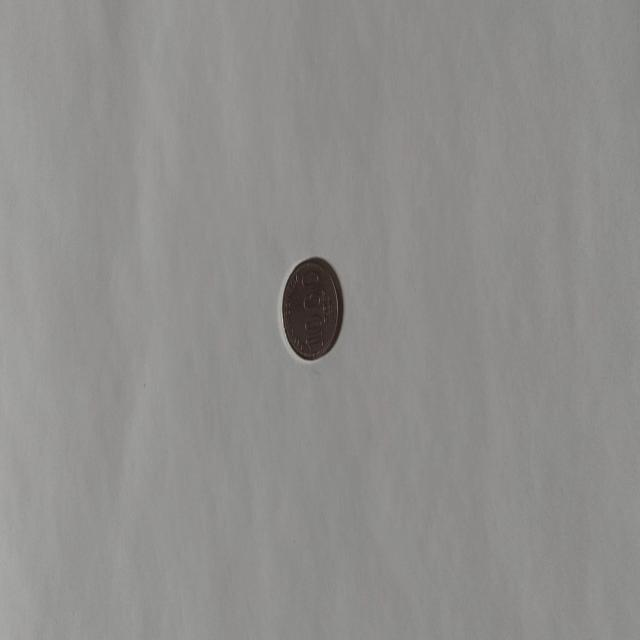seribu rupiah koin: (279, 255, 343, 363)
